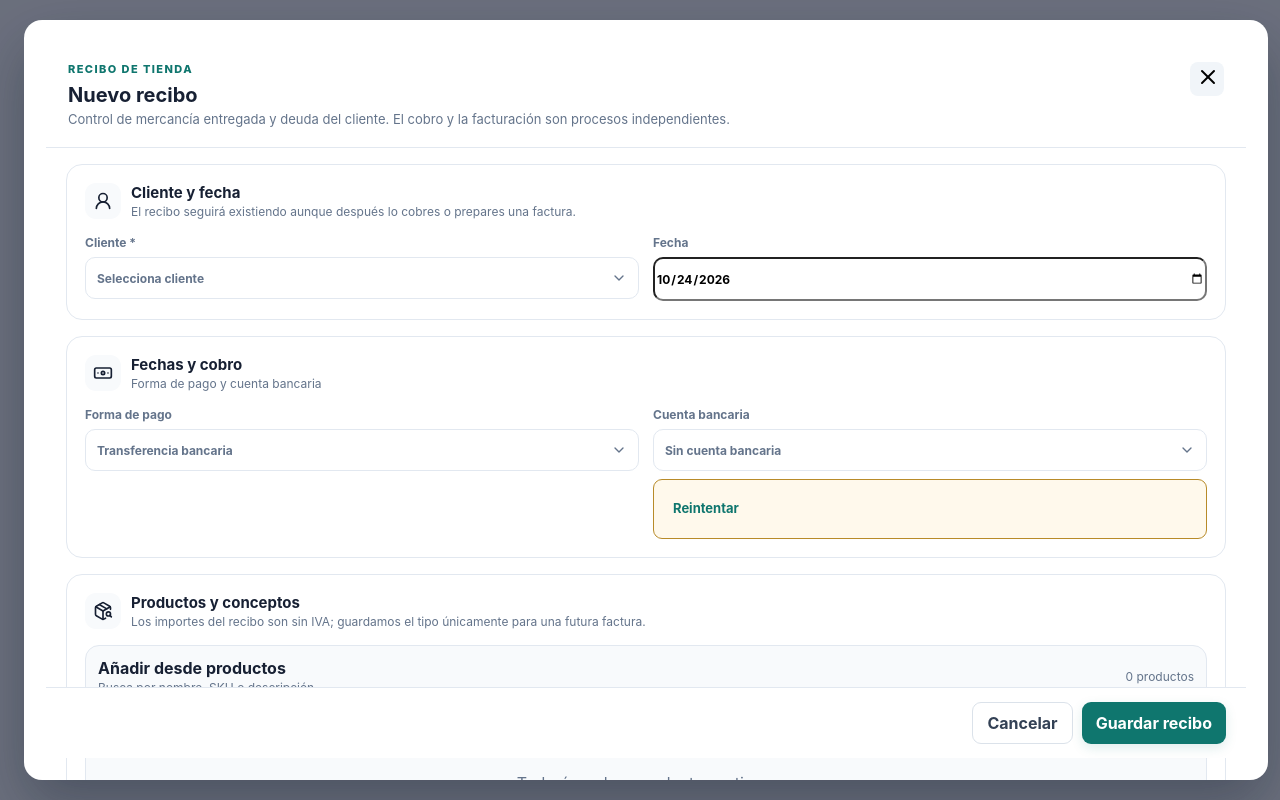
Test: searches the server for a client absent from the initial list
This screenshot has width=1280, height=800.
Click the dropdown named "Cliente del recibo" at [151, 278], box [85,257,639,299]
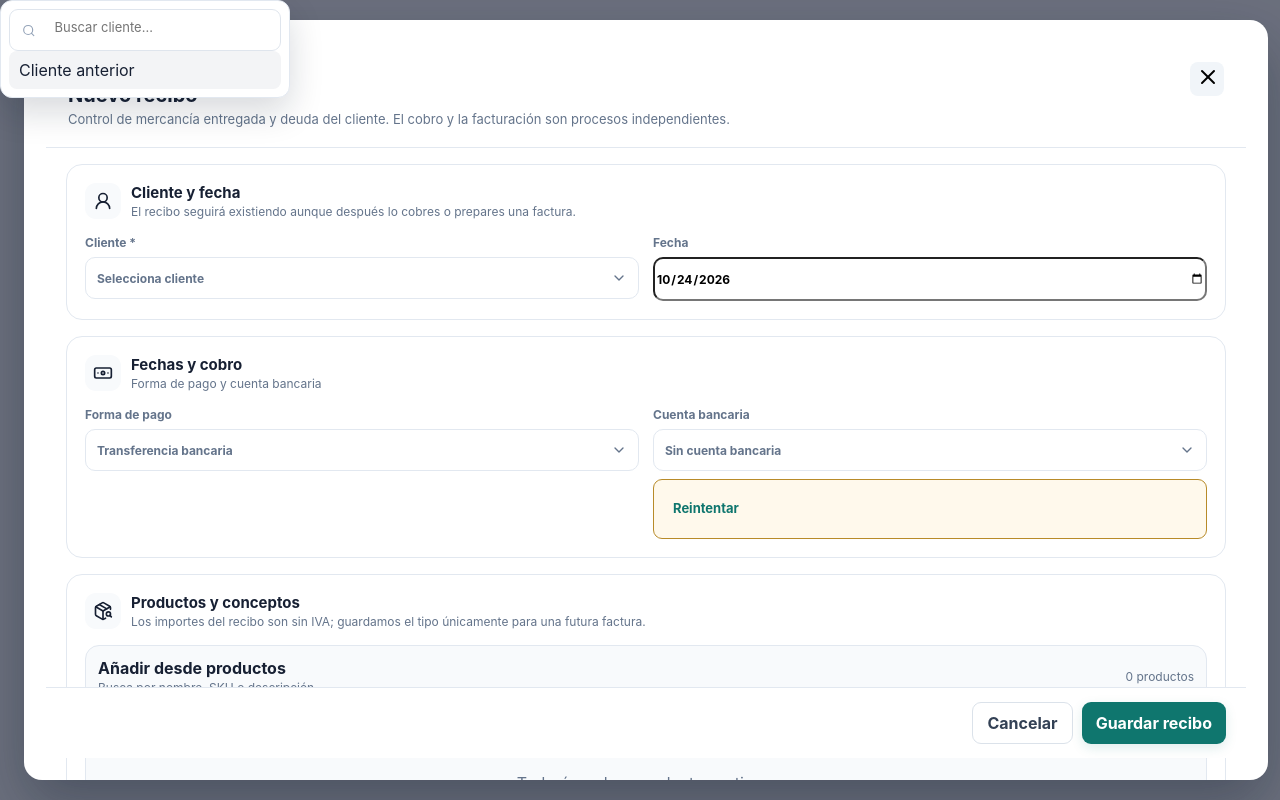
Type "Remoto" into the field with placeholder "Buscar cliente…" at [156, 26], box [44,10,268,44]
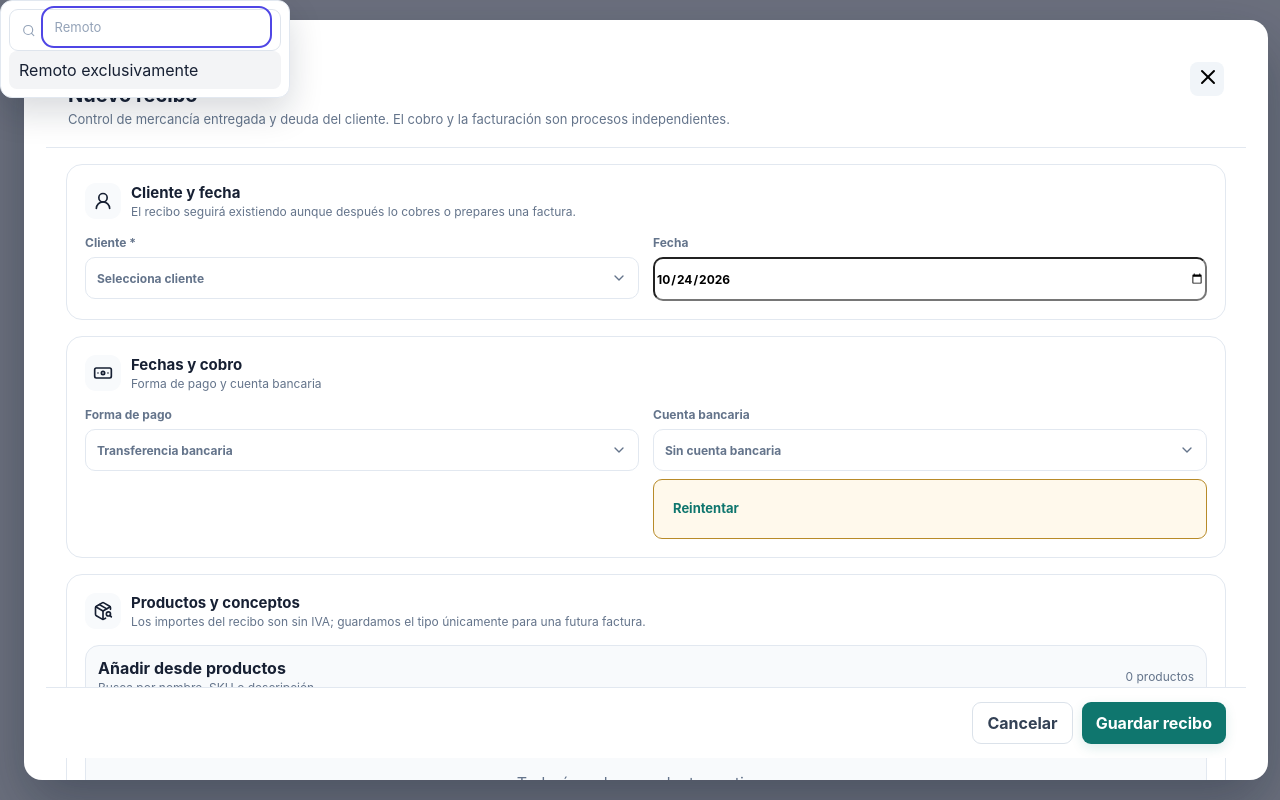
Result: the option "Remoto exclusivamente" is shown at [9,51,281,89]
